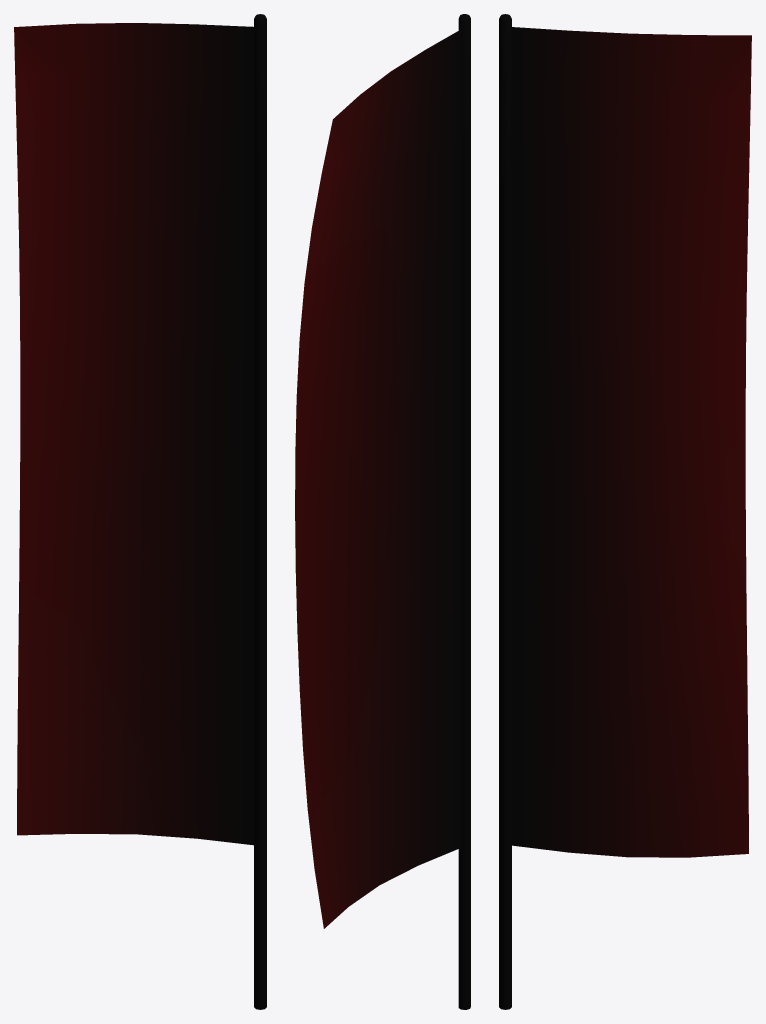
File: Flag.fbx
The picture shows the model from 3 angles, left to right: view 1: azimuth 90°, elevation 25°; view 2: azimuth 150°, elevation 25°; view 3: azimuth 270°, elevation 25°; orthographic projection.
Parts seen in each view (by area): view 1: Cylinder.002; view 2: Cylinder.002; view 3: Cylinder.002.
Boxes of the visible parts, x1=… form: Cylinder.002: x1=14, y1=14, x2=266, y2=1009; Cylinder.002: x1=295, y1=14, x2=470, y2=1009; Cylinder.002: x1=499, y1=14, x2=751, y2=1009.
Size of the model in its own units: 49.07 by 844 by 195.
